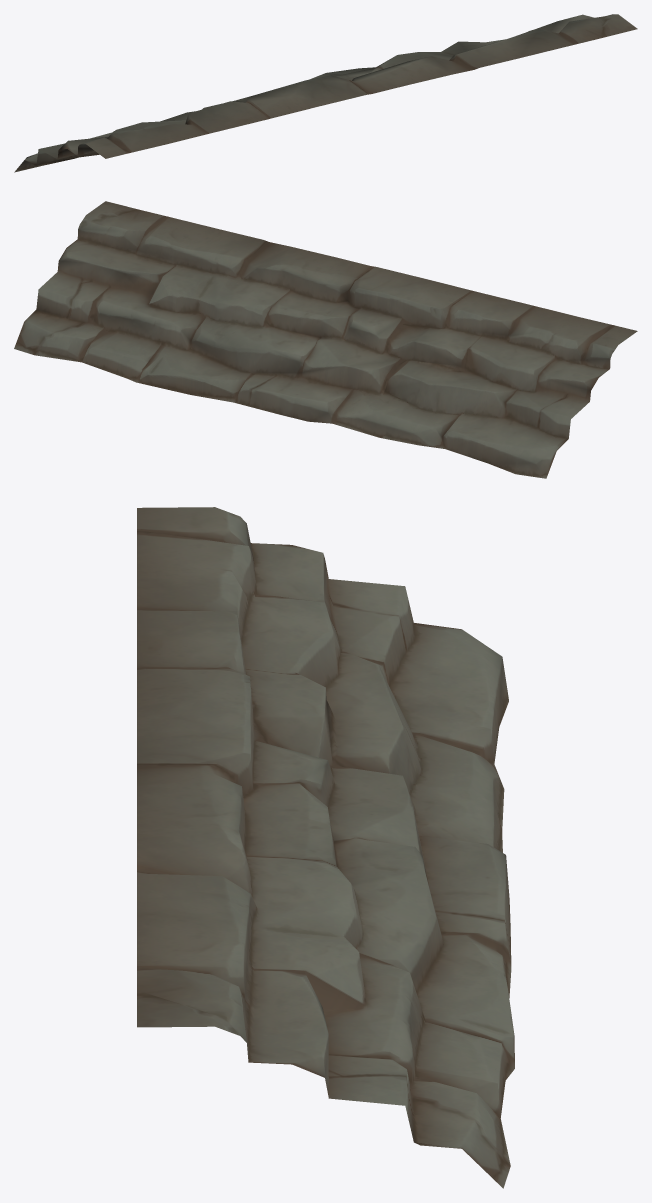
The model's file is SM_FW01_Ruins_Int_Stairs_2x05x4_03.fbx.
3 views of the same model, one above another, from view 1: azimuth 30°, elevation 25°; view 2: azimuth 150°, elevation 25°; view 3: azimuth 270°, elevation 25° (orthographic). The views are drawn at different scales.
Visible parts, largest first — view 1: SM_FW01_Ruins_Int_Stairs_2x05x4_03_LOD0; view 2: SM_FW01_Ruins_Int_Stairs_2x05x4_03_LOD0; view 3: SM_FW01_Ruins_Int_Stairs_2x05x4_03_LOD0.
Part boxes in pixels (x1,y1,x2,y2): SM_FW01_Ruins_Int_Stairs_2x05x4_03_LOD0: (14, 14, 637, 172); SM_FW01_Ruins_Int_Stairs_2x05x4_03_LOD0: (14, 201, 637, 478); SM_FW01_Ruins_Int_Stairs_2x05x4_03_LOD0: (137, 507, 514, 1188).
Size of what is drawn, in the model's own units: 4 by 0.6197 by 1.23.
